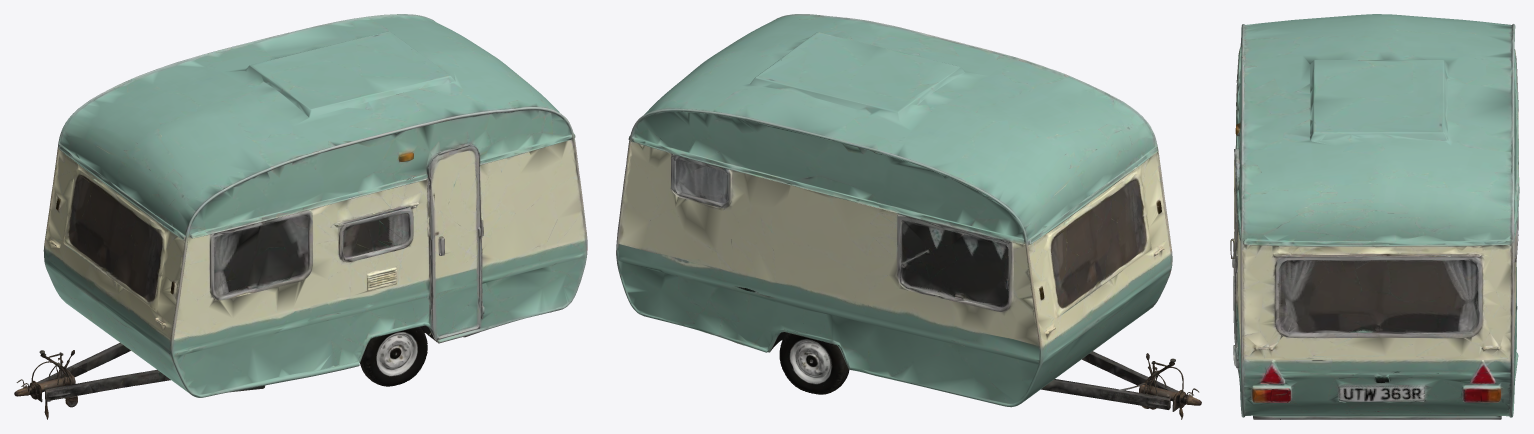
Rendered from caravan-SHRINK.glb.
3 renders of one model, left to right at view 1: azimuth 30°, elevation 25°; view 2: azimuth 150°, elevation 25°; view 3: azimuth 270°, elevation 25°, orthographic. The views are drawn at different scales.
Visible parts, largest first — view 1: object 1, Wheel_R; view 2: object 1, Wheel_L; view 3: object 1.
Boxes of the visible parts, x1,y1,x2,y2 form: object 1: (14, 14, 587, 419); Wheel_R: (360, 319, 427, 386); object 1: (616, 14, 1201, 419); Wheel_L: (779, 322, 849, 394); object 1: (1230, 14, 1519, 419).
Bounding box in the file's own units: 1.9 × 0.9604 × 0.8769.
Materials: 1 (1 with a texture image).
